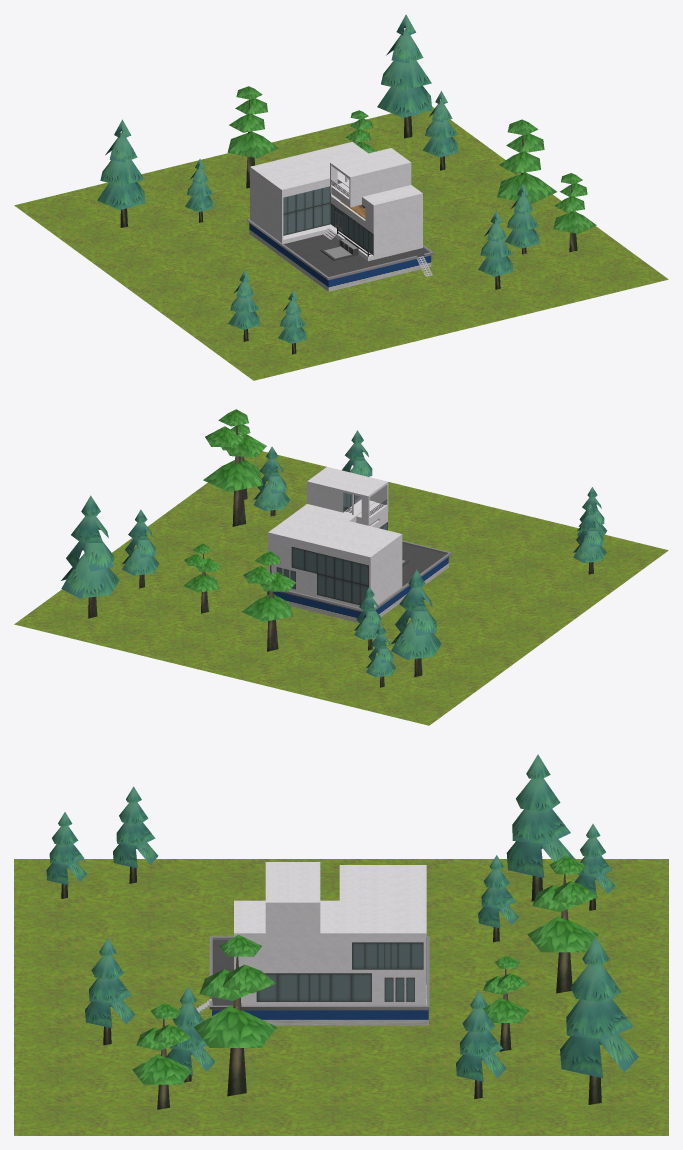
File: zhuzhai_chuanwu01_lod.FBX
3 renders of one model, top to bottom at view 1: azimuth 30°, elevation 25°; view 2: azimuth 150°, elevation 25°; view 3: azimuth 270°, elevation 25°, orthographic. The views are drawn at different scales.
Parts seen in each view (by area): view 1: caodi, zhuzhai_chuanwu01_lod, shu; view 2: caodi, shu, zhuzhai_chuanwu01_lod; view 3: caodi, shu, zhuzhai_chuanwu01_lod.
Part boxes in pixels (x1,y1,x2,y2): caodi: [14, 106, 668, 380]; zhuzhai_chuanwu01_lod: [247, 142, 433, 291]; shu: [97, 14, 596, 354]; caodi: [14, 451, 668, 725]; shu: [61, 409, 607, 687]; zhuzhai_chuanwu01_lod: [267, 467, 451, 622]; caodi: [14, 859, 668, 1135]; shu: [46, 754, 638, 1109]; zhuzhai_chuanwu01_lod: [196, 861, 429, 1025].
Bounding box in the file's own units: 6400 × 1902 × 6400.
